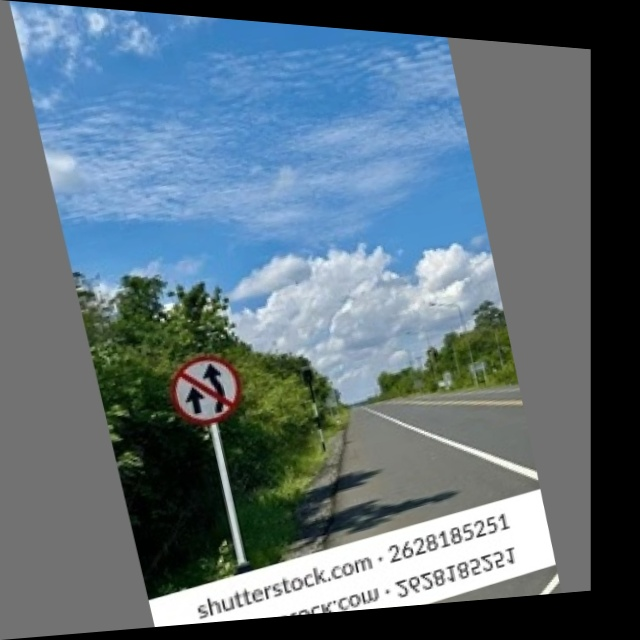Overtaking_Prohibited: (161, 349, 246, 432)
